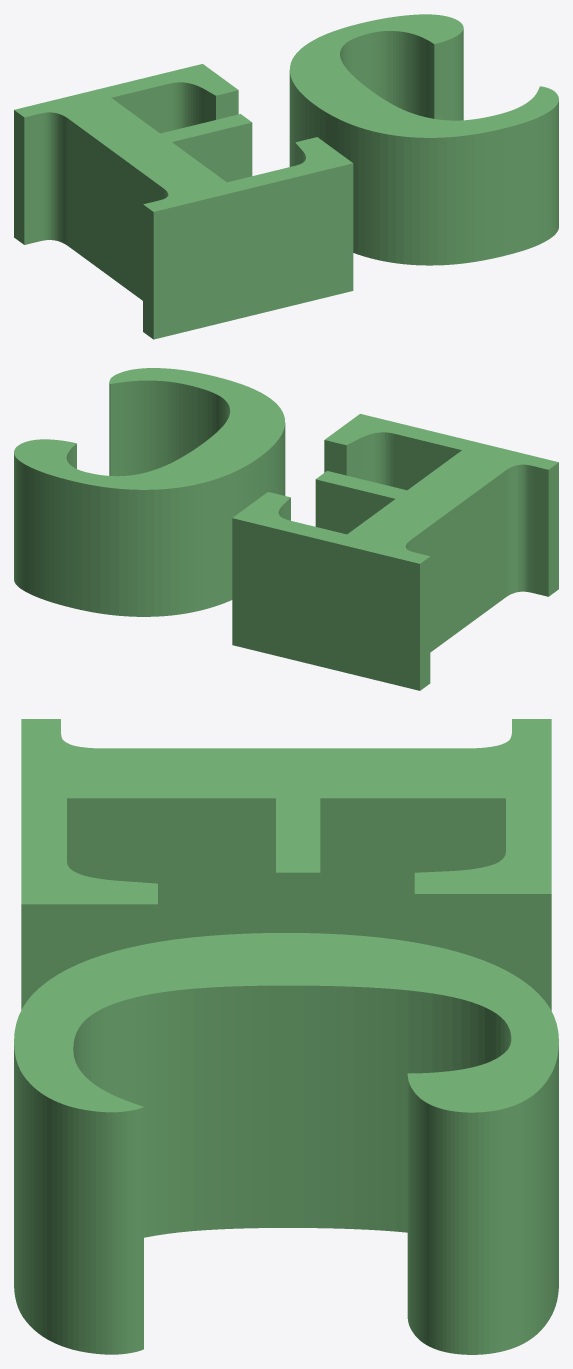
The picture shows the model from 3 angles, top to bottom: view 1: azimuth 30°, elevation 25°; view 2: azimuth 150°, elevation 25°; view 3: azimuth 270°, elevation 25°; orthographic projection. The views are drawn at different scales.
Visible parts, largest first — view 1: Mesh_Mesh_head_geo.001_lambert2SG.001; view 2: Mesh_Mesh_head_geo.001_lambert2SG.001; view 3: Mesh_Mesh_head_geo.001_lambert2SG.001.
Boxes of the visible parts, x1,y1,x2,y2 form: Mesh_Mesh_head_geo.001_lambert2SG.001: (14,14,558,339); Mesh_Mesh_head_geo.001_lambert2SG.001: (14,368,558,690); Mesh_Mesh_head_geo.001_lambert2SG.001: (14,719,558,1354).
Bounding box in the file's own units: 0.0348 × 0.01 × 0.0204.
